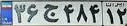character: (43, 3, 61, 23), (26, 2, 40, 24), (75, 3, 89, 24), (13, 2, 26, 24), (62, 3, 75, 24), (89, 2, 100, 24), (116, 8, 127, 25), (105, 8, 115, 24)
